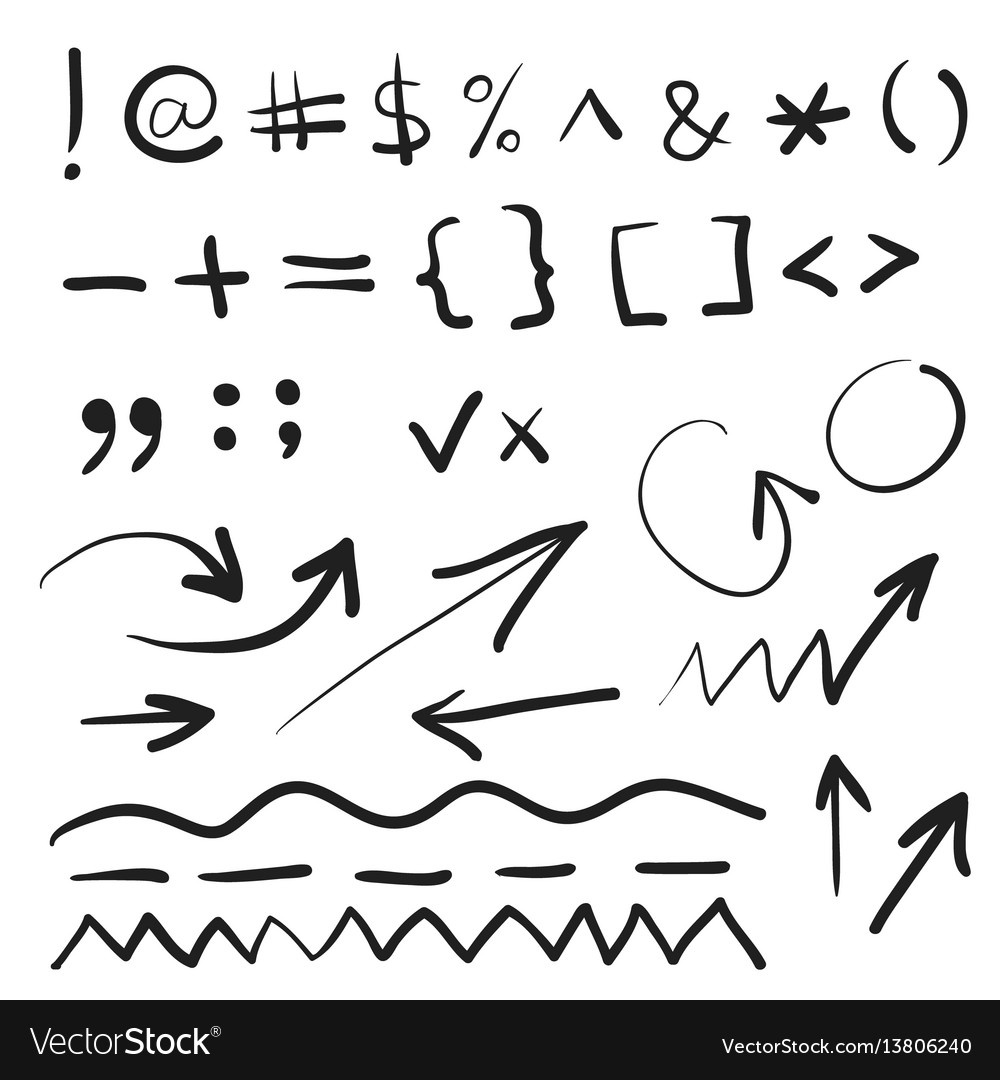arrow: (381, 504, 591, 665), (114, 512, 249, 613), (401, 683, 564, 764), (887, 784, 979, 919), (259, 529, 366, 642), (846, 549, 940, 677), (738, 464, 829, 590), (97, 686, 226, 765), (807, 743, 874, 861)
